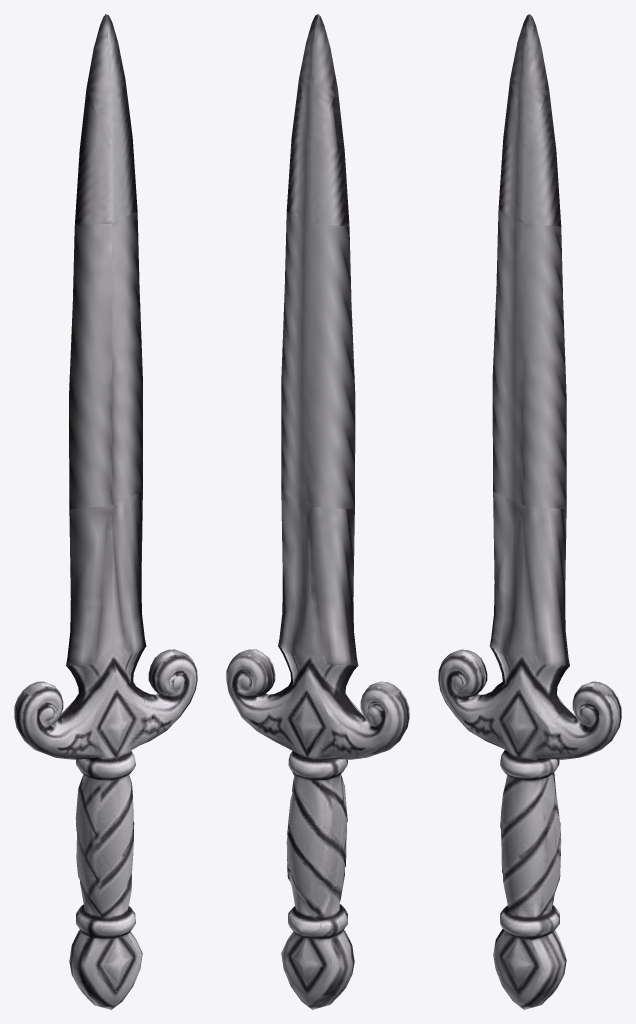
The model's file is item-silverOpeners.glb.
3 renders of one model, left to right at view 1: azimuth 30°, elevation 25°; view 2: azimuth 150°, elevation 25°; view 3: azimuth 330°, elevation 25°, orthographic.
Size of the model in its own units: 0.1792 by 0.9512 by 0.0581.
Materials: 1 (1 with a texture image).
